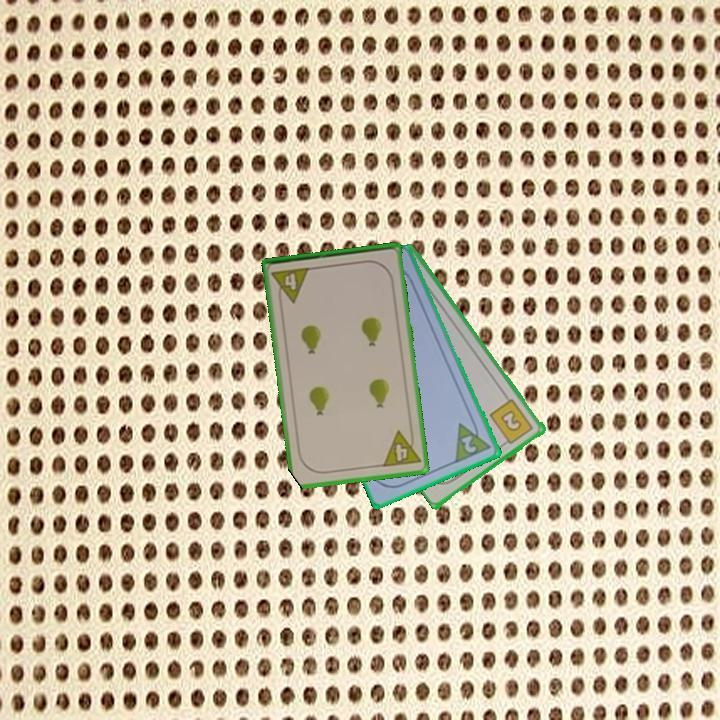2b: (486, 395, 536, 449)
2p: (452, 415, 494, 466)
4p: (379, 426, 423, 470), (268, 264, 313, 307)
